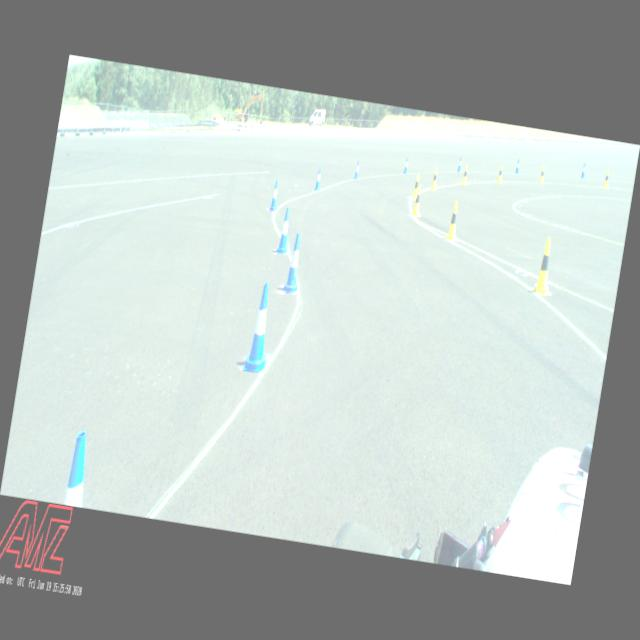blue_cone: (53, 428, 109, 509), (242, 281, 279, 375), (282, 232, 306, 294), (275, 208, 295, 256), (268, 180, 282, 212), (314, 168, 324, 192), (354, 160, 361, 180), (403, 157, 410, 175), (580, 162, 587, 179), (514, 158, 520, 174), (457, 156, 462, 172)
yellow_cone: (532, 237, 556, 296), (446, 200, 462, 242), (410, 184, 426, 218), (411, 173, 421, 200), (430, 167, 440, 190), (602, 168, 612, 190), (538, 166, 547, 184), (496, 164, 504, 184), (462, 166, 469, 186)
